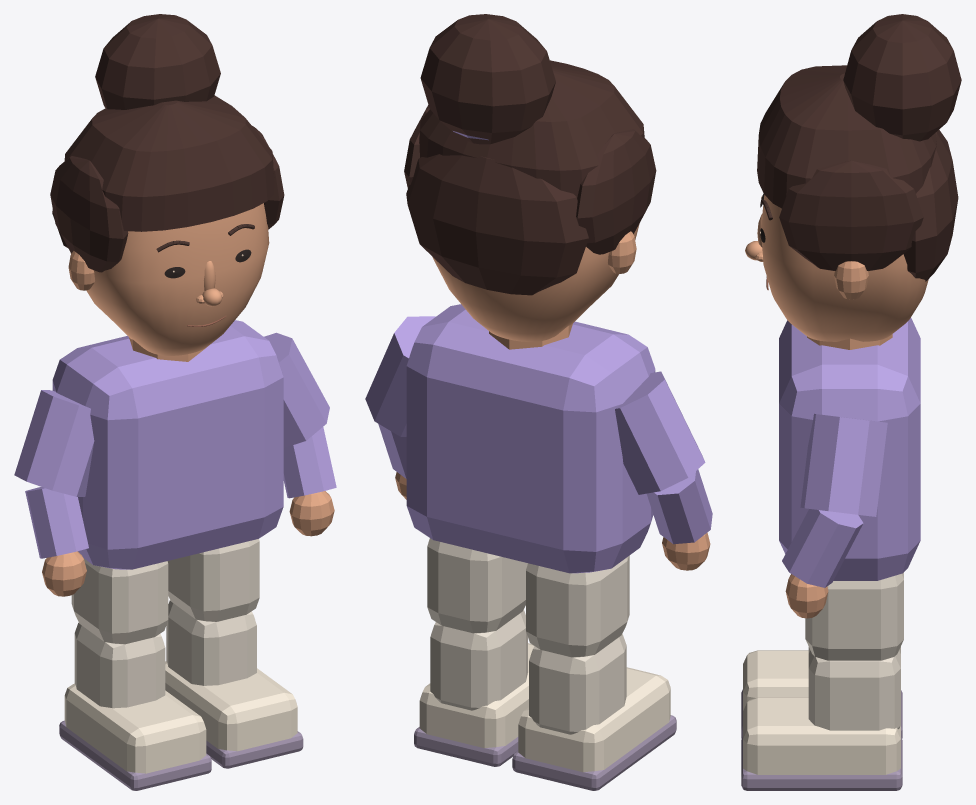
Rendered from companion-avatar.glb.
3 renders of one model, left to right at view 1: azimuth 30°, elevation 25°; view 2: azimuth 150°, elevation 25°; view 3: azimuth 270°, elevation 25°, orthographic. The views are drawn at different scales.
Parts seen in each view (by area): view 1: HeadMesh.001, BodyMesh.001, KneeLMesh.001, KneeRMesh.001, LegLMesh.001, ArmLMesh.001, LegRMesh.001, ArmRMesh.001, ElbowLMesh.001, ElbowRMesh.001, HandLMesh.001, HandRMesh.001; view 2: HeadMesh.001, BodyMesh.001, KneeLMesh.001, KneeRMesh.001, LegLMesh.001, LegRMesh.001, ArmLMesh.001, ArmRMesh.001, ElbowLMesh.001, HandLMesh.001, ElbowRMesh.001; view 3: HeadMesh.001, BodyMesh.001, KneeRMesh.001, ArmRMesh.001, LegRMesh.001, ElbowRMesh.001, KneeLMesh.001, HandRMesh.001.
Boxes of the visible parts, bbox=[...] form: HeadMesh.001: bbox=[50, 14, 284, 355]; BodyMesh.001: bbox=[52, 320, 283, 569]; KneeLMesh.001: bbox=[59, 622, 211, 790]; KneeRMesh.001: bbox=[165, 600, 303, 768]; LegLMesh.001: bbox=[71, 558, 168, 644]; ArmLMesh.001: bbox=[14, 390, 94, 496]; LegRMesh.001: bbox=[167, 539, 259, 621]; ArmRMesh.001: bbox=[264, 332, 329, 447]; ElbowLMesh.001: bbox=[25, 487, 88, 558]; ElbowRMesh.001: bbox=[283, 427, 336, 498]; HandLMesh.001: bbox=[42, 551, 86, 596]; HandRMesh.001: bbox=[289, 491, 334, 536]; HeadMesh.001: bbox=[404, 14, 656, 341]; BodyMesh.001: bbox=[406, 304, 655, 573]; KneeLMesh.001: bbox=[512, 634, 676, 790]; KneeRMesh.001: bbox=[414, 610, 533, 766]; LegLMesh.001: bbox=[526, 555, 629, 657]; LegRMesh.001: bbox=[427, 538, 527, 633]; ArmLMesh.001: bbox=[615, 371, 705, 494]; ArmRMesh.001: bbox=[365, 316, 435, 436]; ElbowLMesh.001: bbox=[647, 469, 712, 544]; HandLMesh.001: bbox=[662, 532, 710, 570]; ElbowRMesh.001: bbox=[378, 424, 406, 478]; HeadMesh.001: bbox=[745, 14, 961, 341]; BodyMesh.001: bbox=[779, 318, 920, 580]; KneeRMesh.001: bbox=[741, 650, 902, 790]; ArmRMesh.001: bbox=[800, 413, 887, 516]; LegRMesh.001: bbox=[805, 572, 903, 660]; ElbowRMesh.001: bbox=[782, 509, 863, 587]; KneeLMesh.001: bbox=[741, 646, 902, 738]; HandRMesh.001: bbox=[785, 574, 828, 618].
Size of the model in its own units: 1.13 by 2.47 by 0.67.
